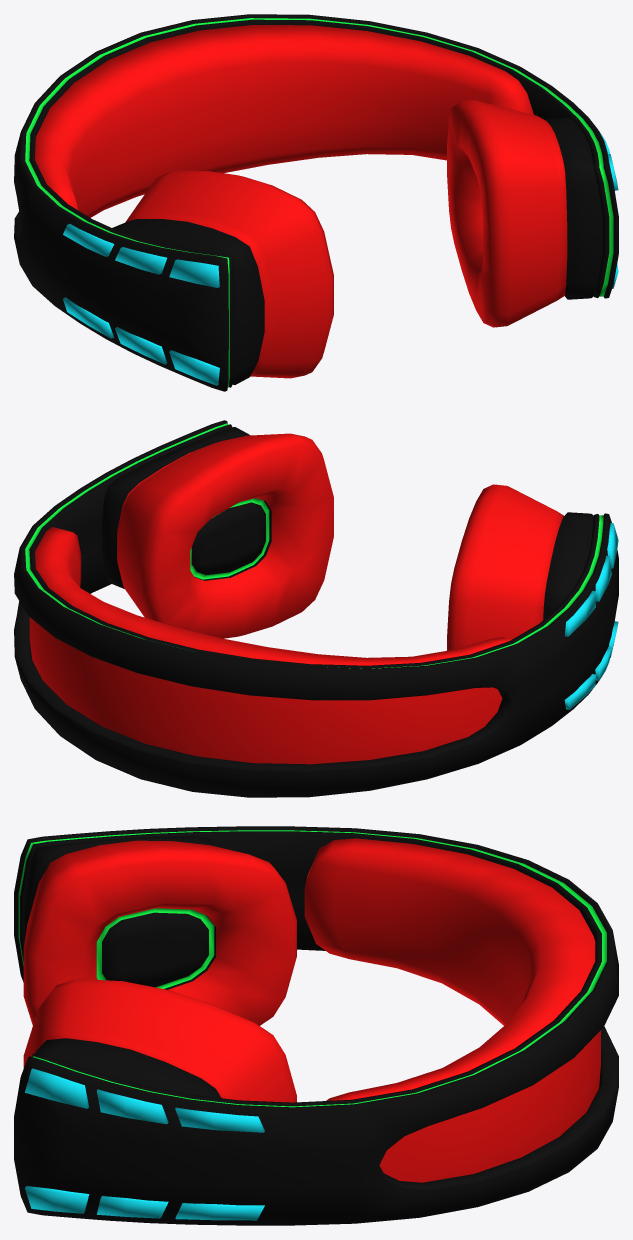
Rendered from Headphones mesh.FBX.
3 renders of one model, top to bottom at view 1: azimuth 30°, elevation 25°; view 2: azimuth 150°, elevation 25°; view 3: azimuth 270°, elevation 25°, orthographic. The views are drawn at different scales.
Visible parts, largest first — view 1: headphones mesh; view 2: headphones mesh; view 3: headphones mesh.
Part boxes in pixels (left/top/right/bottom): headphones mesh: left=14, top=14, right=618, bottom=391; headphones mesh: left=14, top=420, right=618, bottom=797; headphones mesh: left=14, top=826, right=618, bottom=1225.
Bounding box in the file's own units: 0.2546 × 0.2256 × 0.0882.
